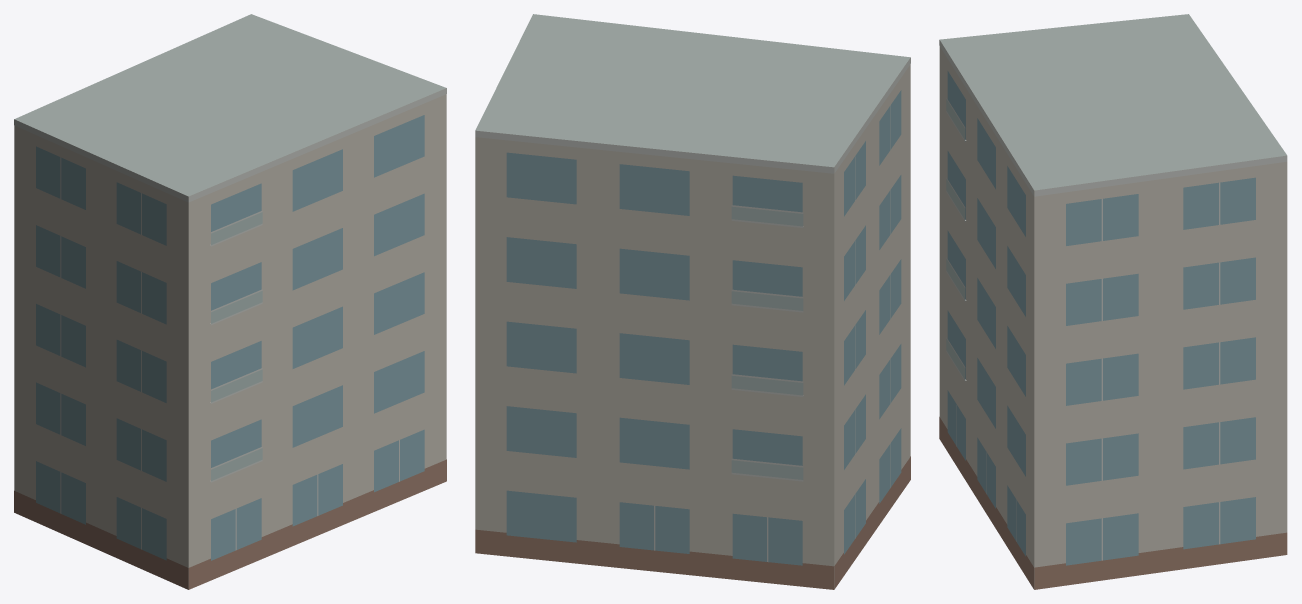
The model's file is survey-upis-33004161.glb.
The picture shows the model from 3 angles, left to right: view 1: azimuth 30°, elevation 25°; view 2: azimuth 150°, elevation 25°; view 3: azimuth 270°, elevation 25°; orthographic projection. The views are drawn at different scales.
Visible parts, largest first — view 1: survey-upis-33004161.tmp; view 2: survey-upis-33004161.tmp; view 3: survey-upis-33004161.tmp.
Part boxes in pixels (<box>): survey-upis-33004161.tmp: <box>14,14,446,589</box>; survey-upis-33004161.tmp: <box>475,14,910,589</box>; survey-upis-33004161.tmp: <box>939,14,1287,589</box>.
Size of the model in its own units: 15.09 by 15.9 by 12.56.
